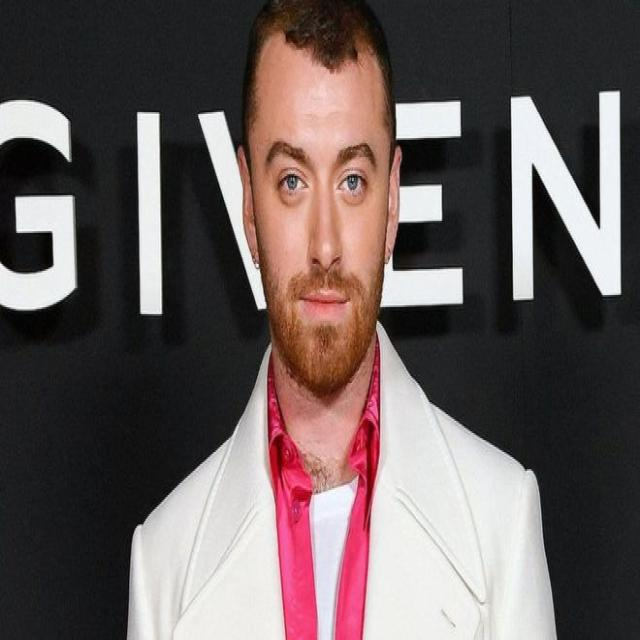human: (122, 0, 560, 640)
